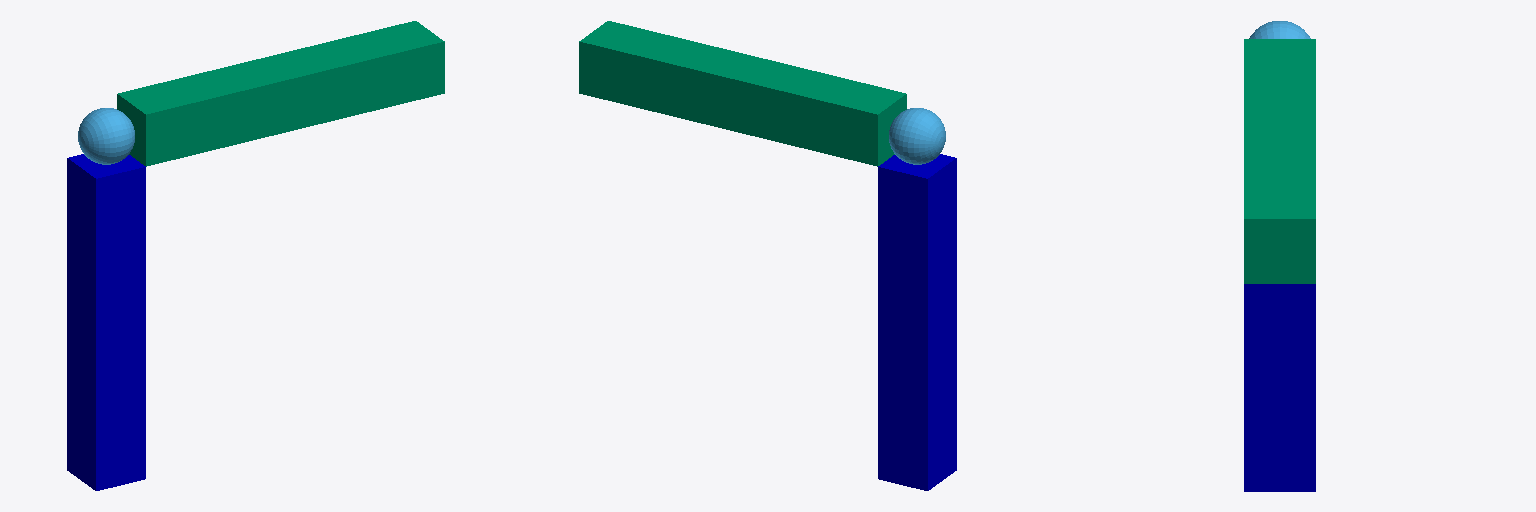
URDF robot description (xuepen_robot):
<?xml version="1.0"?>
<robot name="xuepen_robot">
    <link name="base_link" >
        <visual>
            <geometry>
                <box size="0.1 0.1 0.6"/>
            </geometry>
            <material name="blue" >
                <color rgba="0 0 0.8 0.6" />
            </material>
            <origin rpy="0 0 0" xyz="0 0 0"/>       
        </visual>
    </link>
    <joint name="joint1" type="revolute">
        <parent link="base_link"/>
        <child link="link2" />
        <origin rpy="0 1.57 0" xyz="0 0 .35"/>
        <axis xyz="0 1 0"/>
        <limit effort="6.28" lower="0.0" upper="6.28" velocity="0.5"/>
     </joint>
    <link name="link2" >
        <visual>
            <geometry>
                 <sphere radius="0.05"/>
            </geometry>
         </visual>
    </link>
    <joint name="joint2" type="fixed">
        <parent link="link2"/>
        <child link="link3" />
       <origin rpy="0 0 0" xyz="0 0 .35"/>
    </joint>
    <link name="link3" >
        <visual>
            <geometry>
                 <box size="0.1 0.1 0.6"/>
            </geometry>
            <origin rpy="0 0 0" xyz="0.0 0 0"/> 
         </visual>
    </link>
</robot>

--- Facts derived from the render (not from the file) ---
Views: 3 orthographic renders of the robot side by side, from view 1: azimuth 30°, elevation 25°; view 2: azimuth 150°, elevation 25°; view 3: azimuth 270°, elevation 25°.
Robot: xuepen_robot — 3 links, 2 joints (1 revolute, 1 fixed); root link base_link; default pose: all joints at 0.
Links seen in each view (by area): view 1: base_link, link3, link2; view 2: base_link, link3, link2; view 3: link3, base_link, link2.
Link boxes in pixels (x1,y1,x2,y2): base_link: [67, 154, 145, 490]; link3: [117, 21, 444, 166]; link2: [78, 108, 134, 164]; base_link: [878, 154, 956, 490]; link3: [579, 21, 906, 166]; link2: [889, 108, 945, 164]; link3: [1244, 39, 1315, 283]; base_link: [1244, 284, 1315, 491]; link2: [1249, 21, 1310, 38].
Size in the robot's own frame: 0.7 by 0.1 by 0.7005 metres.
Geometry: primitives only (box / cylinder / sphere), no mesh files.
